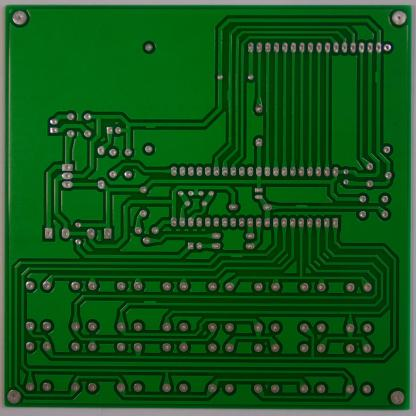spur: (140, 297, 158, 308), (142, 120, 158, 130), (227, 252, 246, 260), (373, 69, 381, 85), (295, 202, 310, 210), (224, 86, 232, 101)
